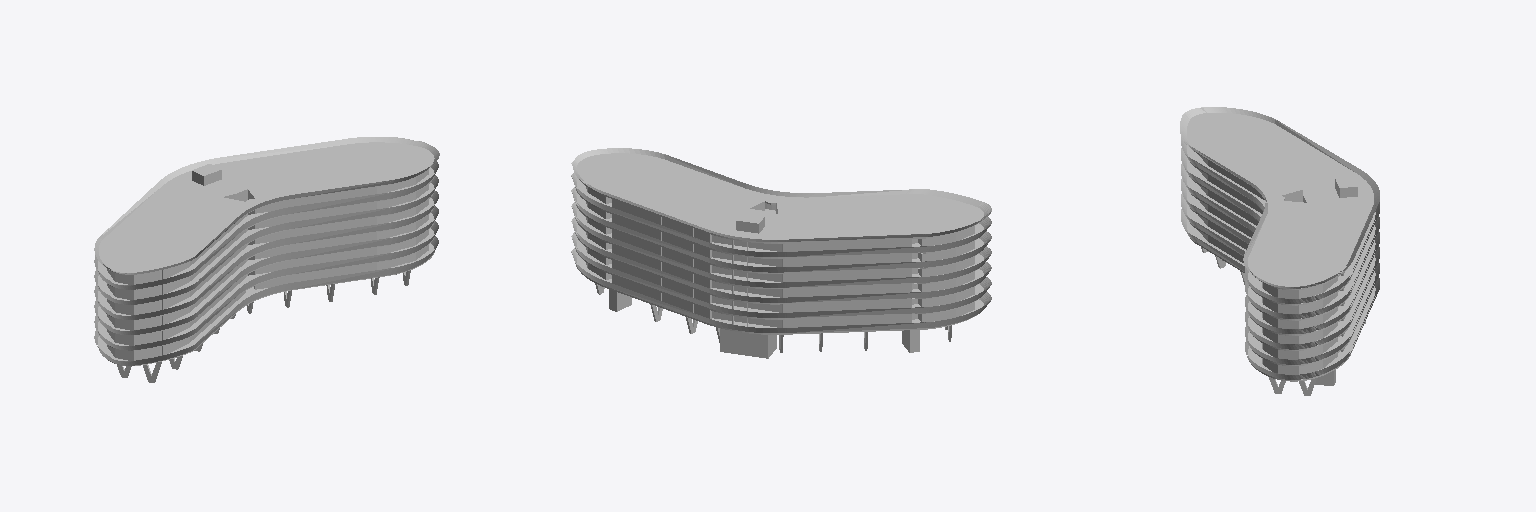
The model's file is center_building.obj.
3 renders of one model, left to right at view 1: azimuth 30°, elevation 25°; view 2: azimuth 150°, elevation 25°; view 3: azimuth 270°, elevation 25°, orthographic.
Visible parts, largest first — view 1: Layer0_001, railing_008, railing_004, railing_007, railing_003, railing_002, railing_001, railing_005, railing_006; view 2: Layer0_001, railing_006, railing_005, railing_004, railing_003, railing_002, railing_001, railing_007, railing_008; view 3: Layer0_001, railing_008, railing_004, railing_005, railing_001, railing_002, railing_007, railing_003, railing_006.
Boxes of the visible parts, box(x1,y1,x2,y2) form: Layer0_001: box(98, 142, 434, 382); railing_008: box(95, 137, 439, 274); railing_004: box(94, 175, 438, 304); railing_007: box(94, 236, 438, 365); railing_003: box(94, 221, 438, 350); railing_002: box(94, 206, 438, 334); railing_001: box(94, 191, 438, 319); railing_005: box(94, 161, 438, 289); railing_006: box(94, 137, 438, 273); Layer0_001: box(575, 153, 983, 358); railing_006: box(571, 149, 991, 241); railing_005: box(571, 173, 991, 256); railing_004: box(571, 187, 991, 272); railing_003: box(571, 232, 991, 317); railing_002: box(571, 217, 991, 302); railing_001: box(571, 202, 991, 287); railing_007: box(571, 248, 991, 332); railing_008: box(572, 148, 991, 239); Layer0_001: box(1187, 113, 1375, 395); railing_008: box(1180, 107, 1378, 288); railing_004: box(1181, 148, 1379, 318); railing_005: box(1181, 137, 1379, 303); railing_001: box(1181, 164, 1379, 333); railing_002: box(1181, 179, 1379, 349); railing_007: box(1181, 209, 1379, 379); railing_003: box(1181, 194, 1379, 364); railing_006: box(1181, 107, 1379, 288).
Bounding box in the file's own units: 3007 × 1021 × 1415.